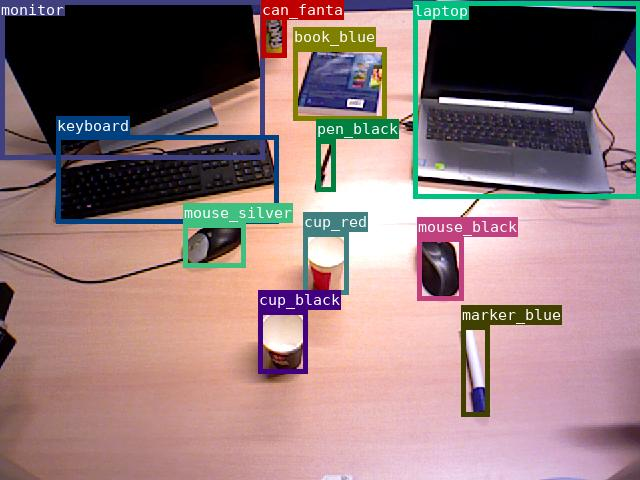book_blue: (293, 47, 386, 120)
can_fanta: (261, 0, 286, 57)
cup_black: (258, 310, 307, 373)
cup_red: (303, 232, 348, 294)
keyboard: (56, 135, 278, 223)
laptop: (413, 1, 640, 198)
marker_blue: (461, 325, 489, 416)
monitor: (0, 0, 264, 159)
mouse_black: (417, 237, 463, 300)
mouse_silver: (183, 223, 245, 267)
pen_black: (316, 139, 335, 191)
